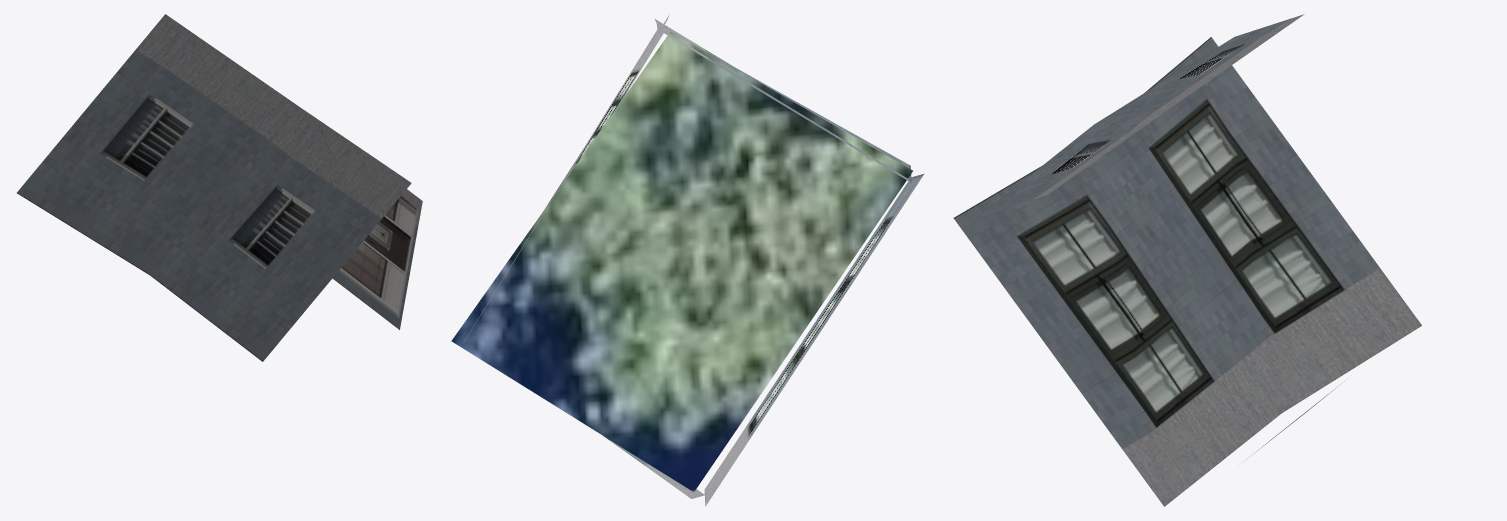
The model's file is tile_LOD4_r15_c12.glb.
3 renders of one model, left to right at view 1: azimuth 30°, elevation 25°; view 2: azimuth 150°, elevation 25°; view 3: azimuth 270°, elevation 25°, orthographic. The views are drawn at different scales.
Size of the model in its own units: 10 by 11.25 by 11.5.
Materials: 5 (5 with a texture image).
